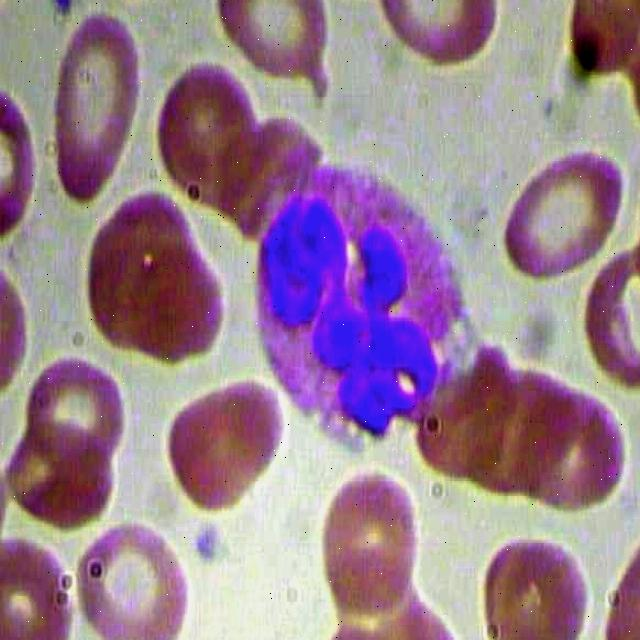Platelets: (42, 0, 84, 22)
RBC: (81, 190, 238, 374), (36, 6, 146, 204), (306, 459, 426, 627), (157, 368, 288, 520), (501, 133, 632, 284), (146, 58, 265, 216), (68, 512, 198, 640), (19, 345, 135, 473), (477, 527, 597, 640), (214, 0, 345, 101), (578, 241, 640, 395), (375, 0, 501, 66)
WBC: (243, 154, 477, 460)
